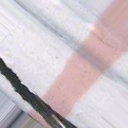crackTip: (1, 57, 79, 128)
